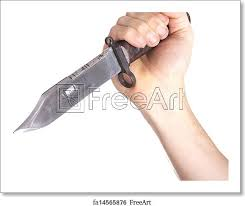knife: (9, 1, 194, 141)
